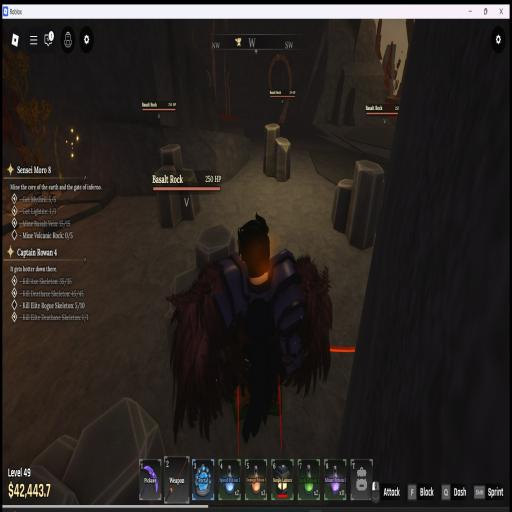player: (167, 214, 332, 442)
rock: (3, 398, 165, 505), (331, 160, 383, 250), (153, 144, 200, 227), (195, 224, 235, 268), (263, 123, 280, 176), (169, 266, 201, 294), (274, 137, 291, 181), (164, 304, 175, 355)
